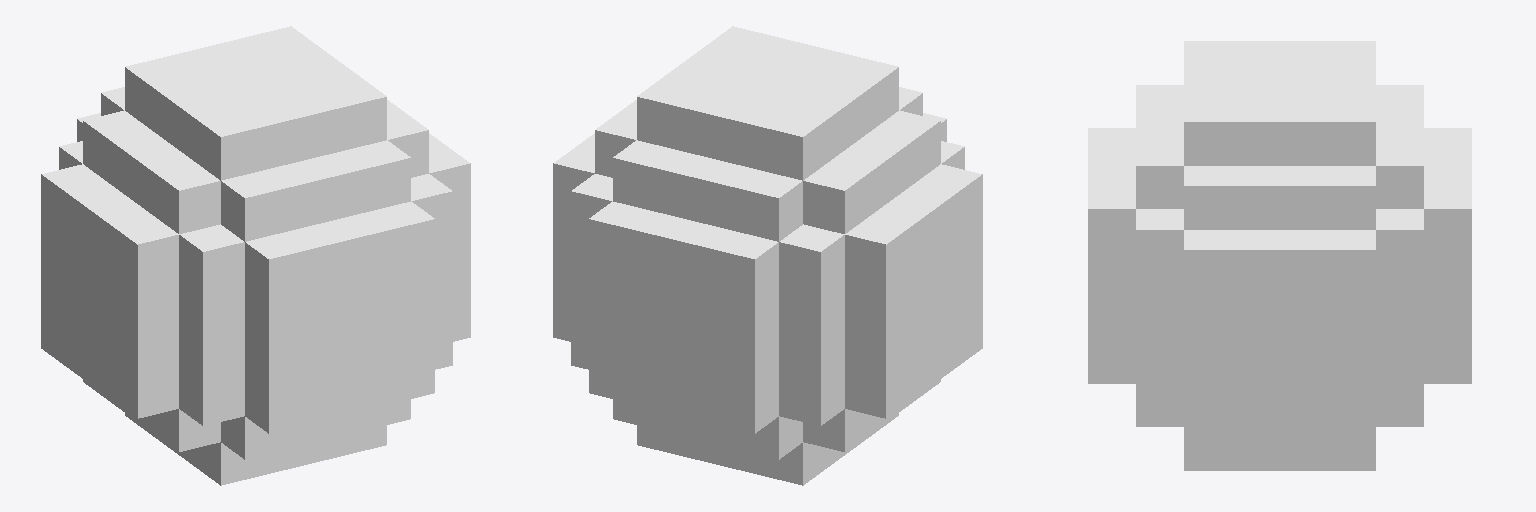
File: Football16x16.obj
3 renders of one model, left to right at view 1: azimuth 30°, elevation 25°; view 2: azimuth 150°, elevation 25°; view 3: azimuth 270°, elevation 25°, orthographic.
Visible parts, largest first — view 1: object 1; view 2: object 1; view 3: object 1.
Boxes of the visible parts, x1=… form: object 1: x1=41, y1=26, x2=470, y2=485; object 1: x1=553, y1=26, x2=982, y2=485; object 1: x1=1088, y1=41, x2=1471, y2=470.
Size of the model in its own units: 1.6 by 1.6 by 1.6.